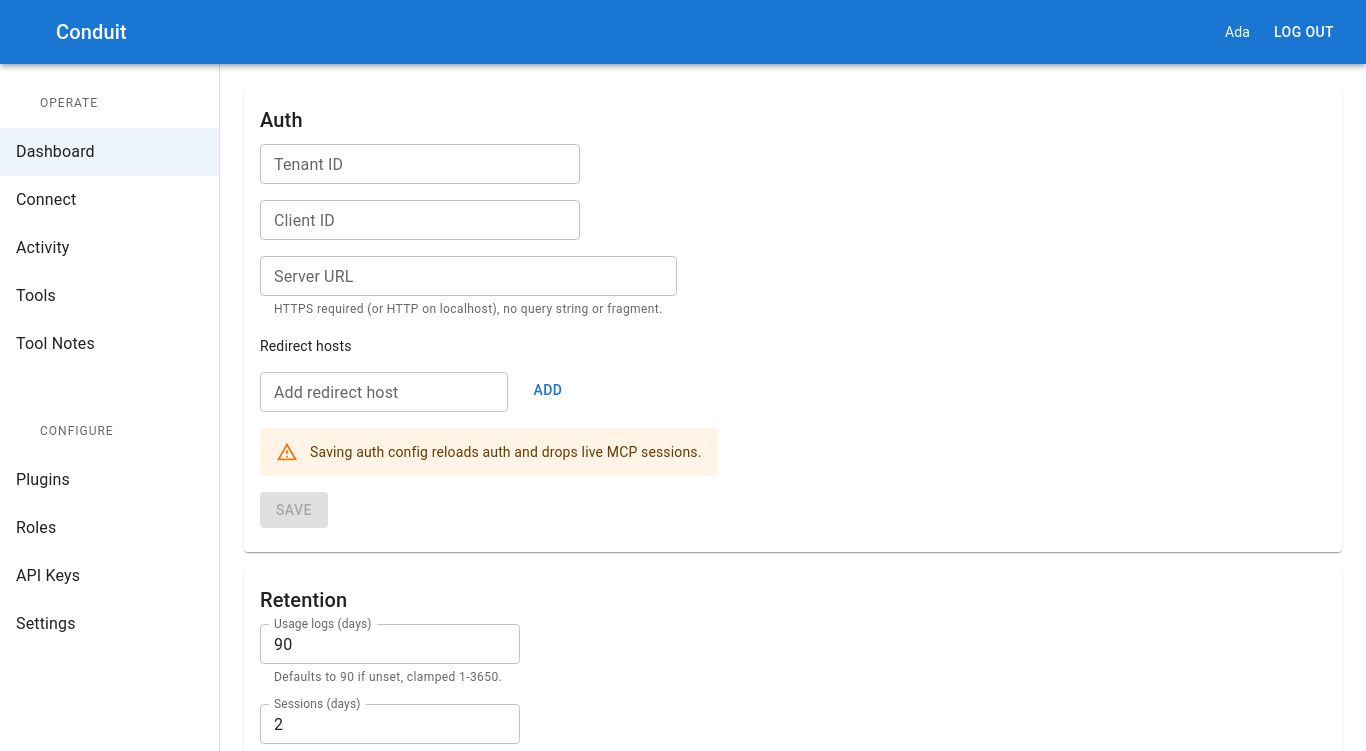
Test: settings page › 400 from the mocked mutation renders the error text
The width and height of the screenshot is (1366, 751).
In the field labelled "Tenant ID": {"x": 420, "y": 164} [260, 144, 580, 184], type "t"
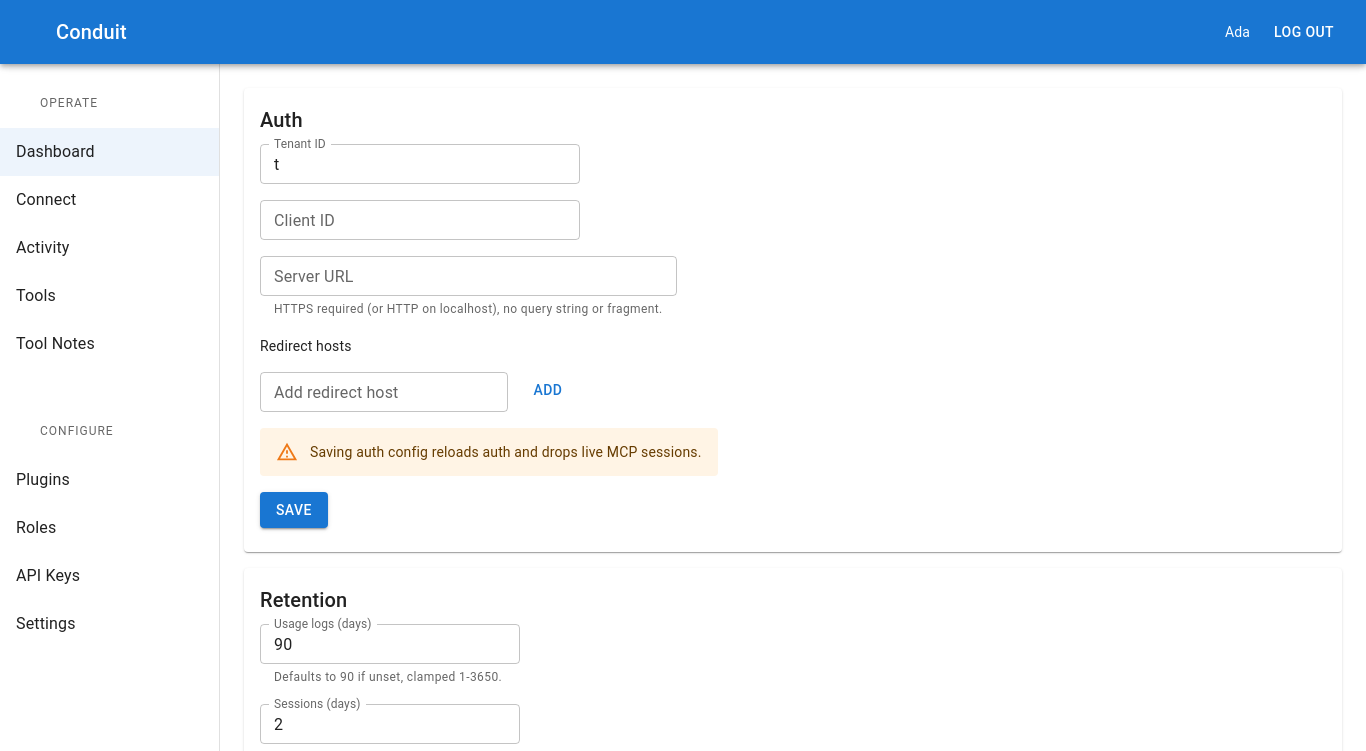
Click the button "Save": {"x": 294, "y": 510} [260, 492, 328, 528]
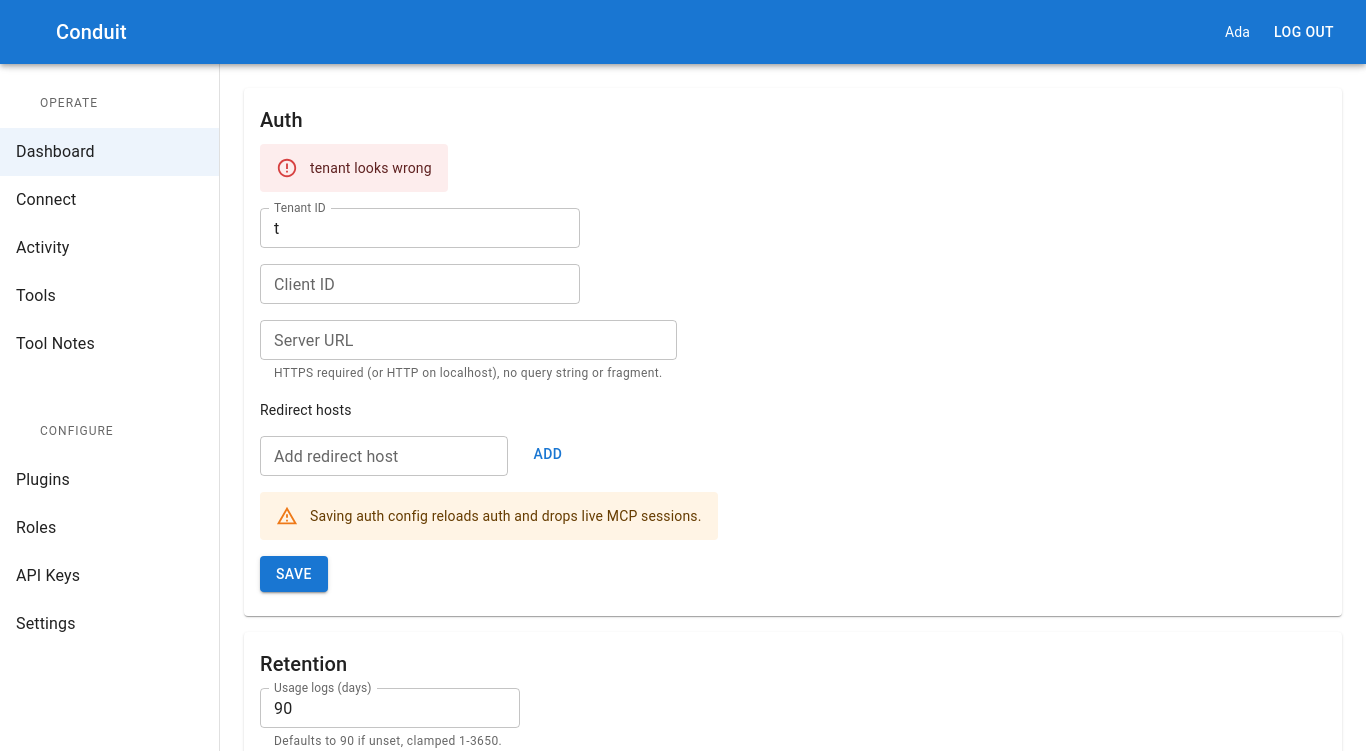
Expected: the text "tenant looks wrong" is shown, [310, 160, 432, 176]
